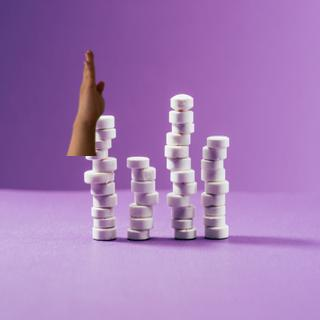RIGHT: (71, 46, 107, 125)
